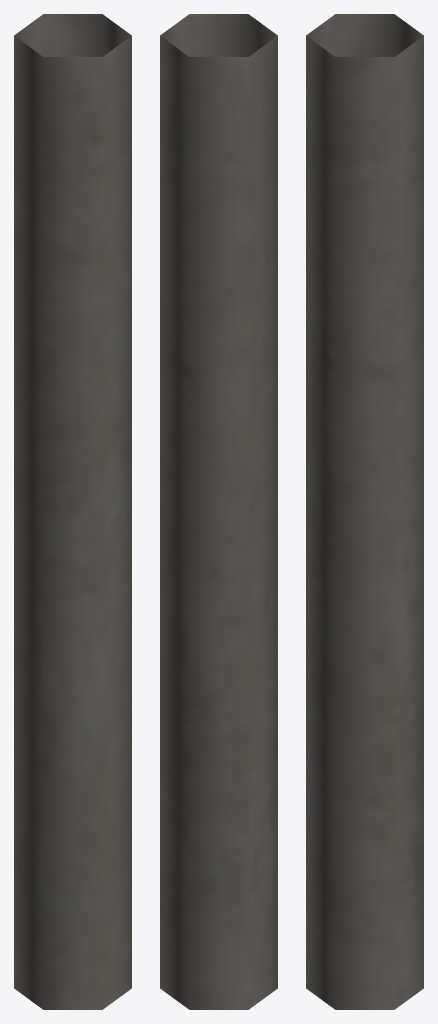
File: cable_10cm.glb
The picture shows the model from 3 angles, left to right: view 1: azimuth 90°, elevation 25°; view 2: azimuth 210°, elevation 25°; view 3: azimuth 270°, elevation 25°; orthographic projection.
Parts seen in each view (by area): view 1: cable_10cm.001; view 2: cable_10cm.001; view 3: cable_10cm.001.
Boxes of the visible parts, <box> form: cable_10cm.001: <box>14,14,131,1009</box>; cable_10cm.001: <box>160,14,277,1009</box>; cable_10cm.001: <box>306,14,423,1009</box>.
Size of the model in its own units: 0.00971 by 0.1 by 0.0112.
Materials: 1 (1 with a texture image).
